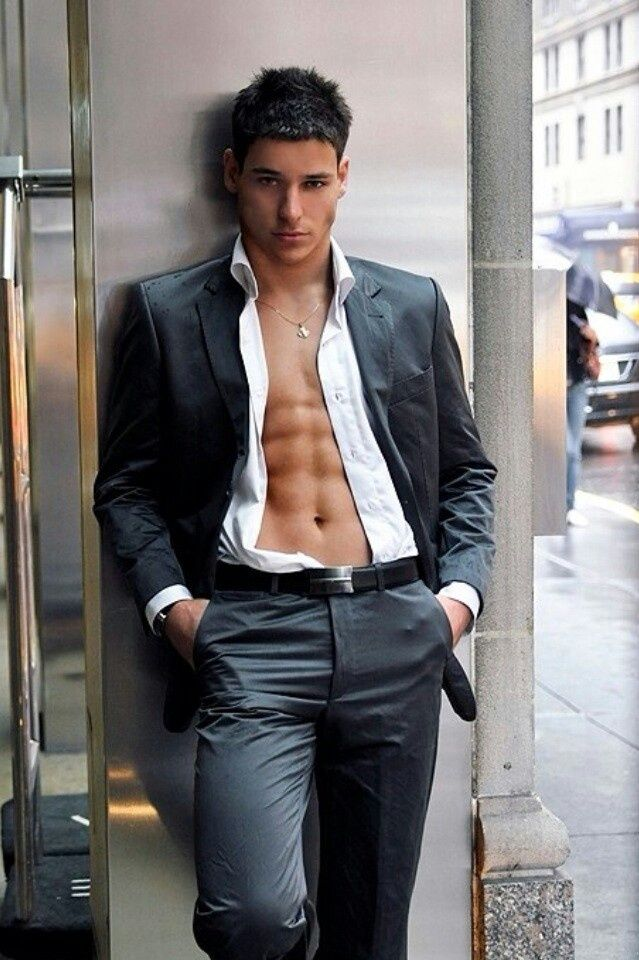person: (82, 65, 519, 960)
